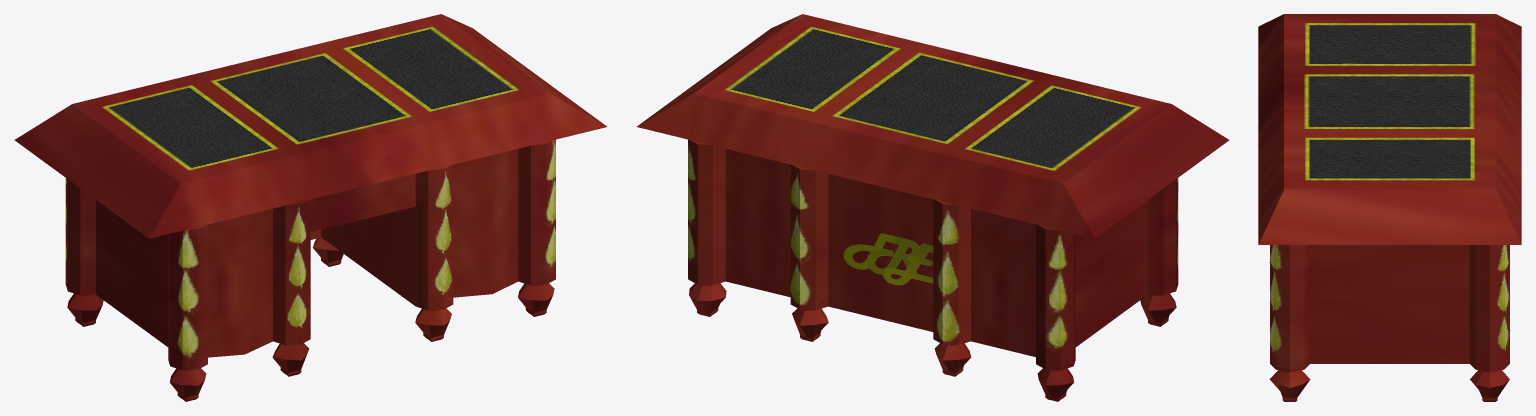
The model's file is Woodesk.fbx.
3 renders of one model, left to right at view 1: azimuth 30°, elevation 25°; view 2: azimuth 150°, elevation 25°; view 3: azimuth 270°, elevation 25°, orthographic. The views are drawn at different scales.
Parts seen in each view (by area): view 1: woodesk; view 2: woodesk; view 3: woodesk.
Part boxes in pixels (x1,y1,x2,y2): woodesk: (14,14,607,401); woodesk: (636,14,1229,401); woodesk: (1258,14,1521,401).
Size of the model in its own units: 38.56 by 17.69 by 19.65.
